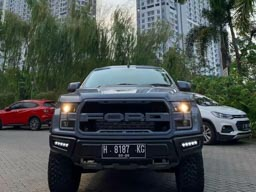plat: (102, 144, 146, 153)
